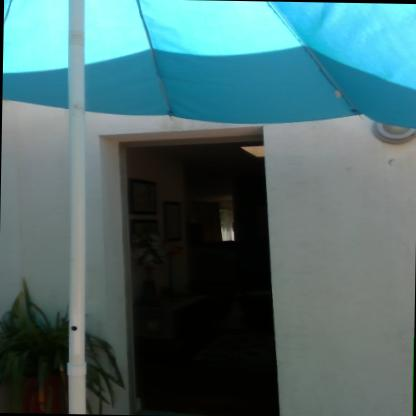open: (86, 117, 297, 416)
